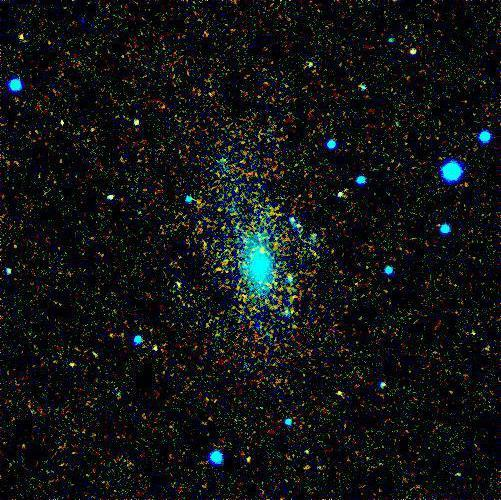star: (52, 348, 82, 378)
